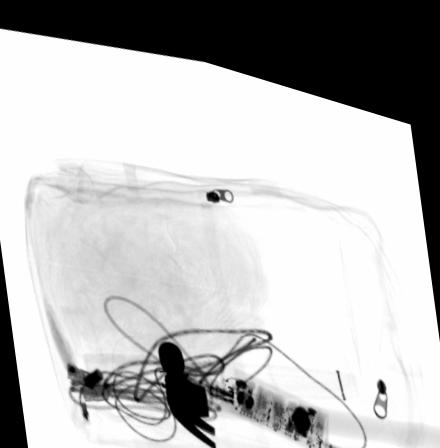Hammer: (157, 330, 440, 441)
